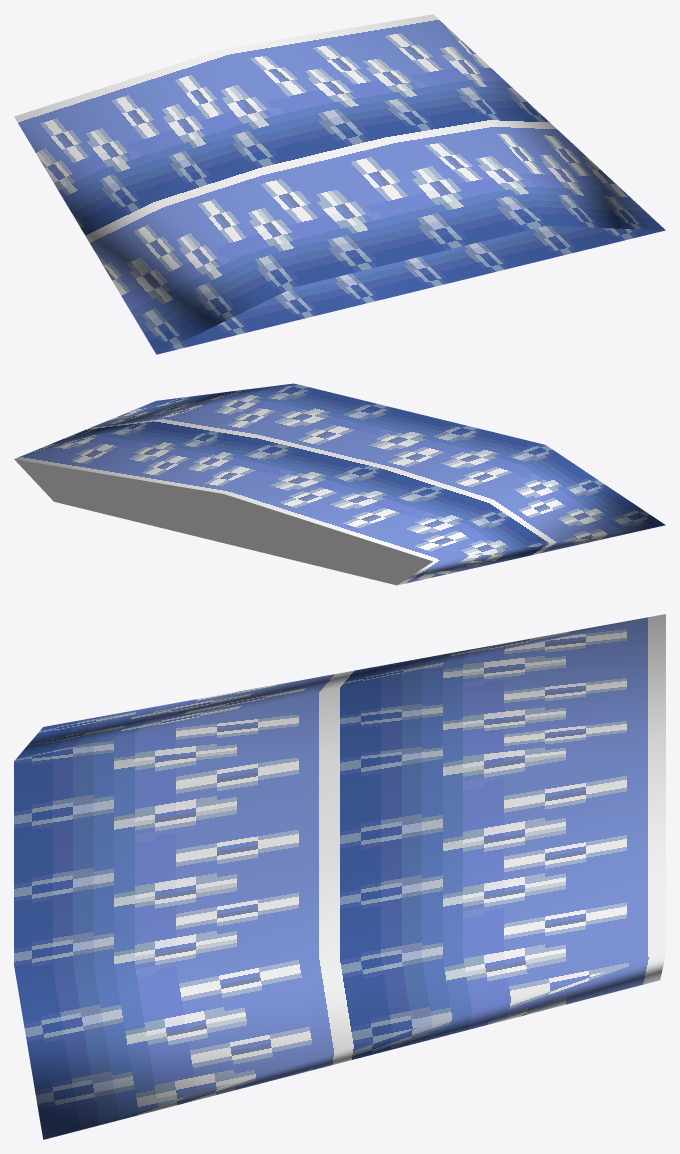
Rendered from 5486uc_cl_ska.gltf.
3 views of the same model, one above another, from view 1: azimuth 30°, elevation 25°; view 2: azimuth 150°, elevation 25°; view 3: azimuth 270°, elevation 25° (orthographic). The views are drawn at different scales.
Parts seen in each view (by area): view 1: 5486uc_cl_ska; view 2: 5486uc_cl_ska; view 3: 5486uc_cl_ska.
Part boxes in pixels (bbox=[...]): 5486uc_cl_ska: bbox=[14, 14, 665, 354]; 5486uc_cl_ska: bbox=[14, 383, 665, 585]; 5486uc_cl_ska: bbox=[14, 614, 665, 1139].
Size of the model in its own units: 0.9868 by 0.1968 by 0.6584.
Materials: 1 (1 with a texture image).
